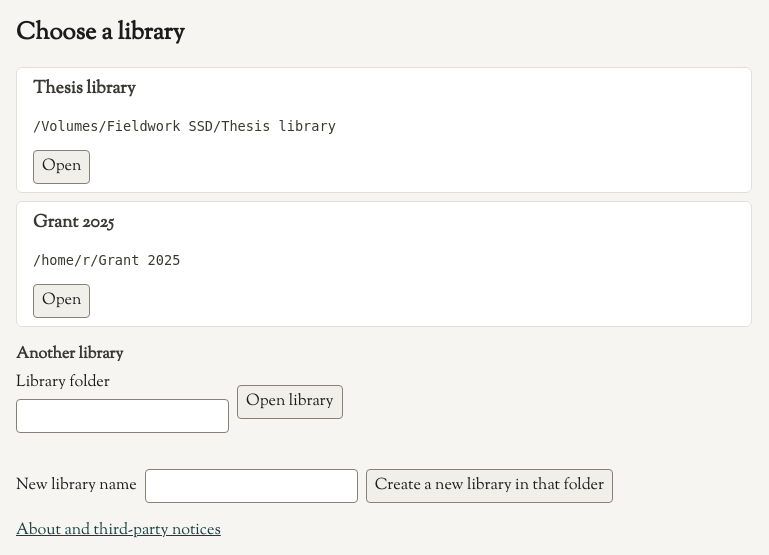
Test: library routes › with none open, the chooser; a missing library leads to not found, and back
Click the button with aria-label "Open Thesis library" at point(62, 167), box [33, 150, 90, 184]
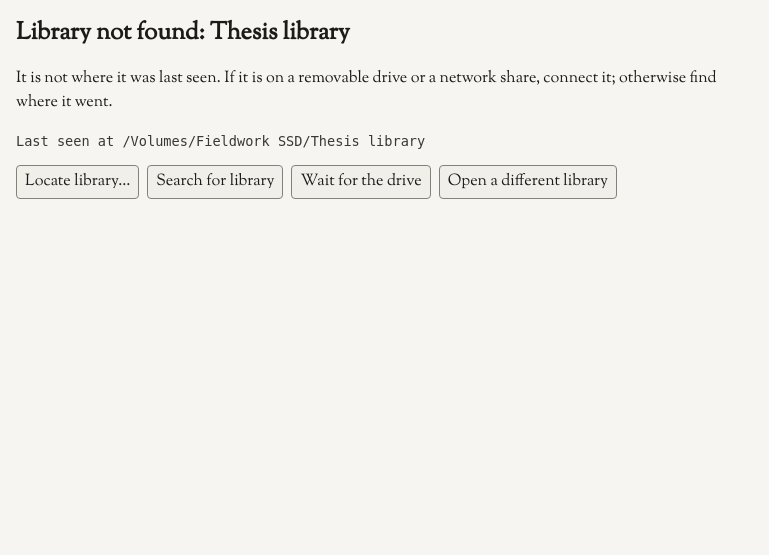
Expected: the heading "Library not found: Thesis library" is shown, [16, 16, 350, 50]
Click the button "Open a different library" at point(528, 182), box [439, 165, 617, 199]
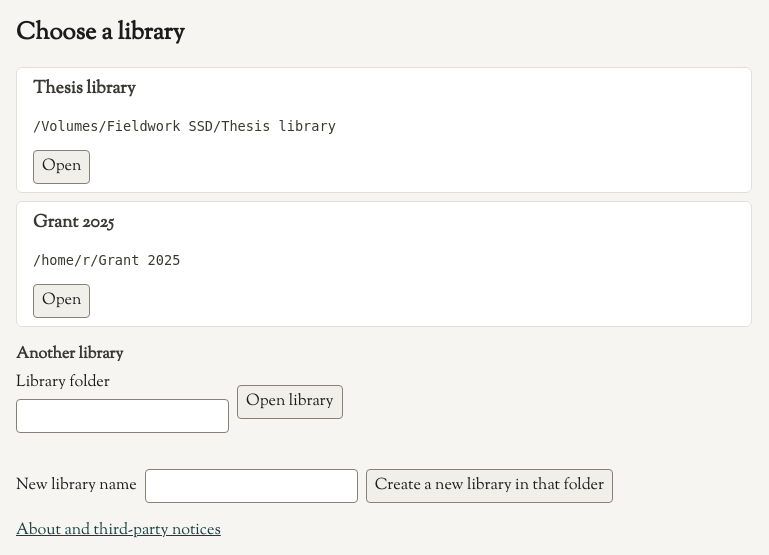
Expected: the heading "Choose a library" is shown, [16, 16, 184, 50]
